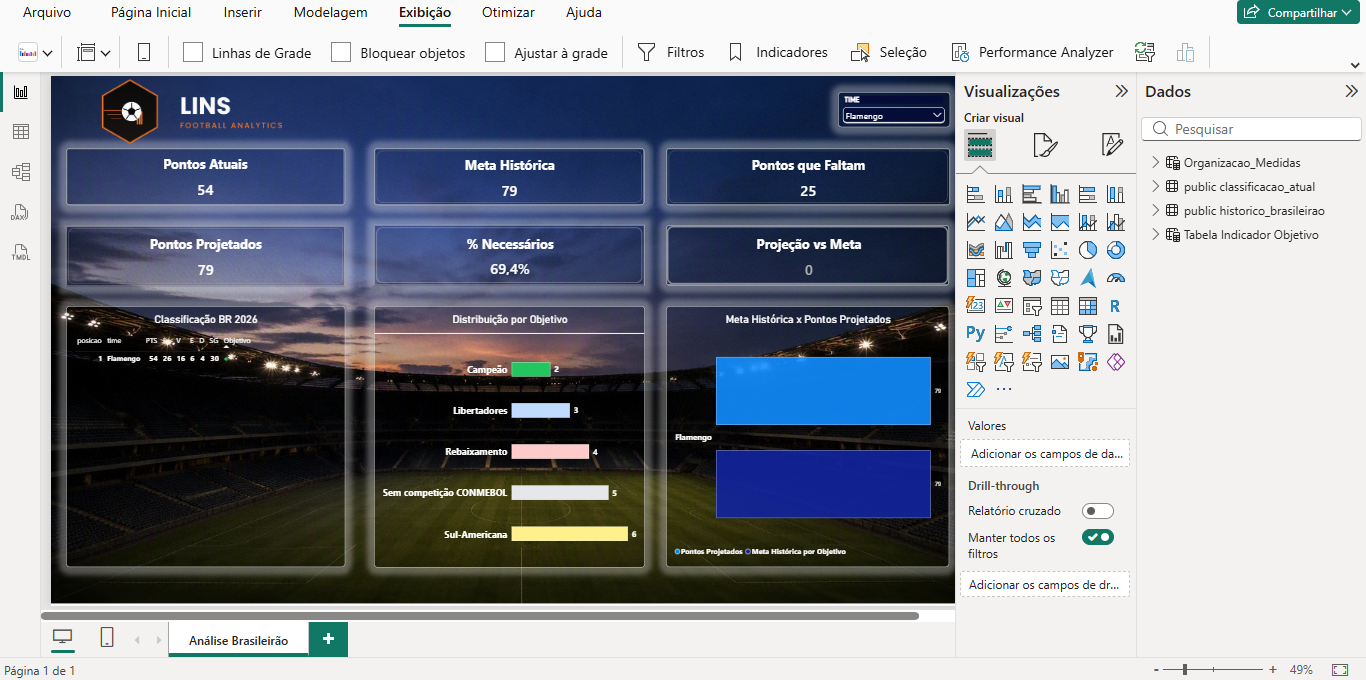

The page's visual inventory and layout, read from the dashboard file:
{"tool":"powerbi","page":{"name":"Análise Brasileirão","canvas":[1920,1080],"ordinal":0},"visuals":[{"type":"image","box":[1883.2,1058.2,36.8,22.1],"z":0},{"type":"slicer","fields":{"Values":["public classificacao_atual.time"]},"box":[1606.5,32.6,229,72.5],"z":1000},{"type":"cardVisual","fields":{"Data":["Organizacao_Medidas.Pontos Atuais"]},"box":[30.4,147.8,569.6,117.4],"z":2000},{"type":"cardVisual","fields":{"Data":["Organizacao_Medidas.Meta Histórica por Objetivo"]},"box":[658.7,147.8,552.2,117.4],"z":3000},{"type":"cardVisual","fields":{"Data":["Organizacao_Medidas.Pontos para Meta Histórica"]},"box":[1254.3,147.8,580.4,117.4],"z":4000},{"type":"cardVisual","fields":{"Data":["Organizacao_Medidas.Pontos Projetados"]},"box":[30.4,306.5,569.6,123.9],"z":5000},{"type":"cardVisual","fields":{"Data":["Organizacao_Medidas.% Pontos Restantes para Meta"]},"box":[658.7,304.3,552.2,123.9],"z":6000},{"type":"cardVisual","fields":{"Data":["Organizacao_Medidas.Diferença Projeção vs Meta"]},"box":[1254.3,304.3,578.3,123.9],"z":7000},{"type":"clusteredBarChart","title":"Meta Histórica x Pontos Projetados","fields":{"Category":["public classificacao_atual.time"],"Y":["Organizacao_Medidas.Pontos Projetados","Organizacao_Medidas.Meta Histórica por Objetivo"]},"box":[1254.3,469.6,578.3,532.6],"z":8000},{"type":"tableEx","title":"Classificação BR 2026","fields":{"Values":["public classificacao_atual.posicao","public classificacao_atual.time","public classificacao_atual.pontos","public classificacao_atual.jogos","public classificacao_atual.vitorias","public classificacao_atual.empates","public classificacao_atual.derrotas","Organizacao_Medidas.Saldo de Gols","Organizacao_Medidas.Indicador Objetivo"]},"box":[30.4,469.6,569.6,532.6],"z":9000},{"type":"clusteredBarChart","title":"Distribuição por Objetivo","fields":{"Category":["Tabela Indicador Objetivo.Objetivo"],"Y":["Tabela Indicador Objetivo.Qtd Times Indicador"]},"box":[658.8,468.7,553,533.5],"z":10000},{"type":"image","box":[77.8,0,503.3,144.7],"z":11000}]}

Visuals, with their boxes on the page's 1920x1080 design canvas (x1, y1, x2, y2). These are canvas units, not pixel positions in the 1366x680 screenshot, which may show the page scaled, cropped or inside an application window:
image: pyautogui.locateOnScreen(1883, 1058, 1920, 1080)
slicer - public classificacao_atual.time: pyautogui.locateOnScreen(1606, 33, 1836, 105)
cardVisual - Organizacao_Medidas.Pontos Atuais: pyautogui.locateOnScreen(30, 148, 600, 265)
cardVisual - Organizacao_Medidas.Meta Histórica por Objetivo: pyautogui.locateOnScreen(659, 148, 1211, 265)
cardVisual - Organizacao_Medidas.Pontos para Meta Histórica: pyautogui.locateOnScreen(1254, 148, 1835, 265)
cardVisual - Organizacao_Medidas.Pontos Projetados: pyautogui.locateOnScreen(30, 306, 600, 430)
cardVisual - Organizacao_Medidas.% Pontos Restantes para Meta: pyautogui.locateOnScreen(659, 304, 1211, 428)
cardVisual - Organizacao_Medidas.Diferença Projeção vs Meta: pyautogui.locateOnScreen(1254, 304, 1833, 428)
"Meta Histórica x Pontos Projetados" clusteredBarChart: pyautogui.locateOnScreen(1254, 470, 1833, 1002)
"Classificação BR 2026" tableEx: pyautogui.locateOnScreen(30, 470, 600, 1002)
"Distribuição por Objetivo" clusteredBarChart: pyautogui.locateOnScreen(659, 469, 1212, 1002)
image: pyautogui.locateOnScreen(78, 0, 581, 145)
